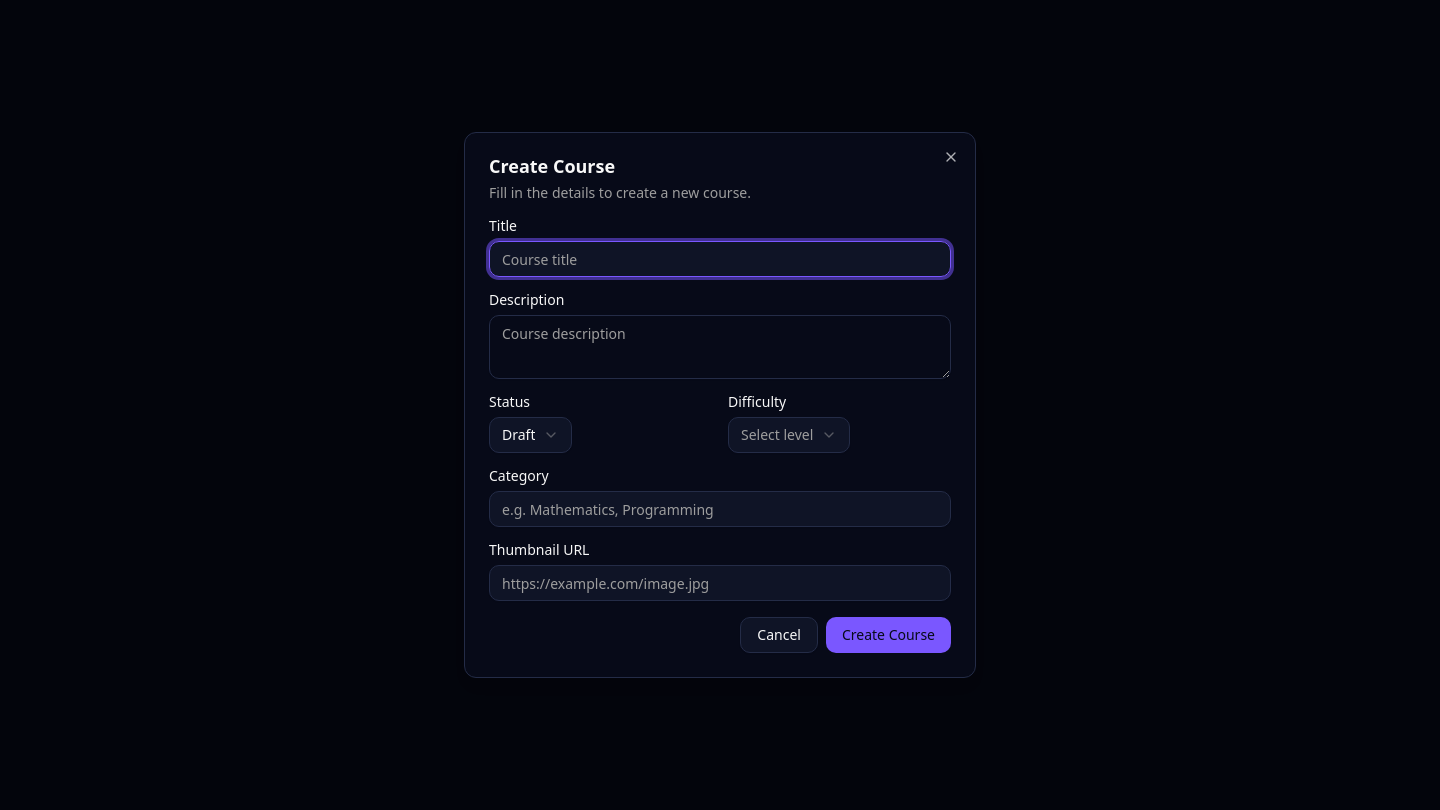
CourseFormDialog › shows validation errors for empty fields on submit
The width and height of the screenshot is (1440, 810).
Click the button "Create Course" at coordinates (888, 635), box [826,617,951,653]
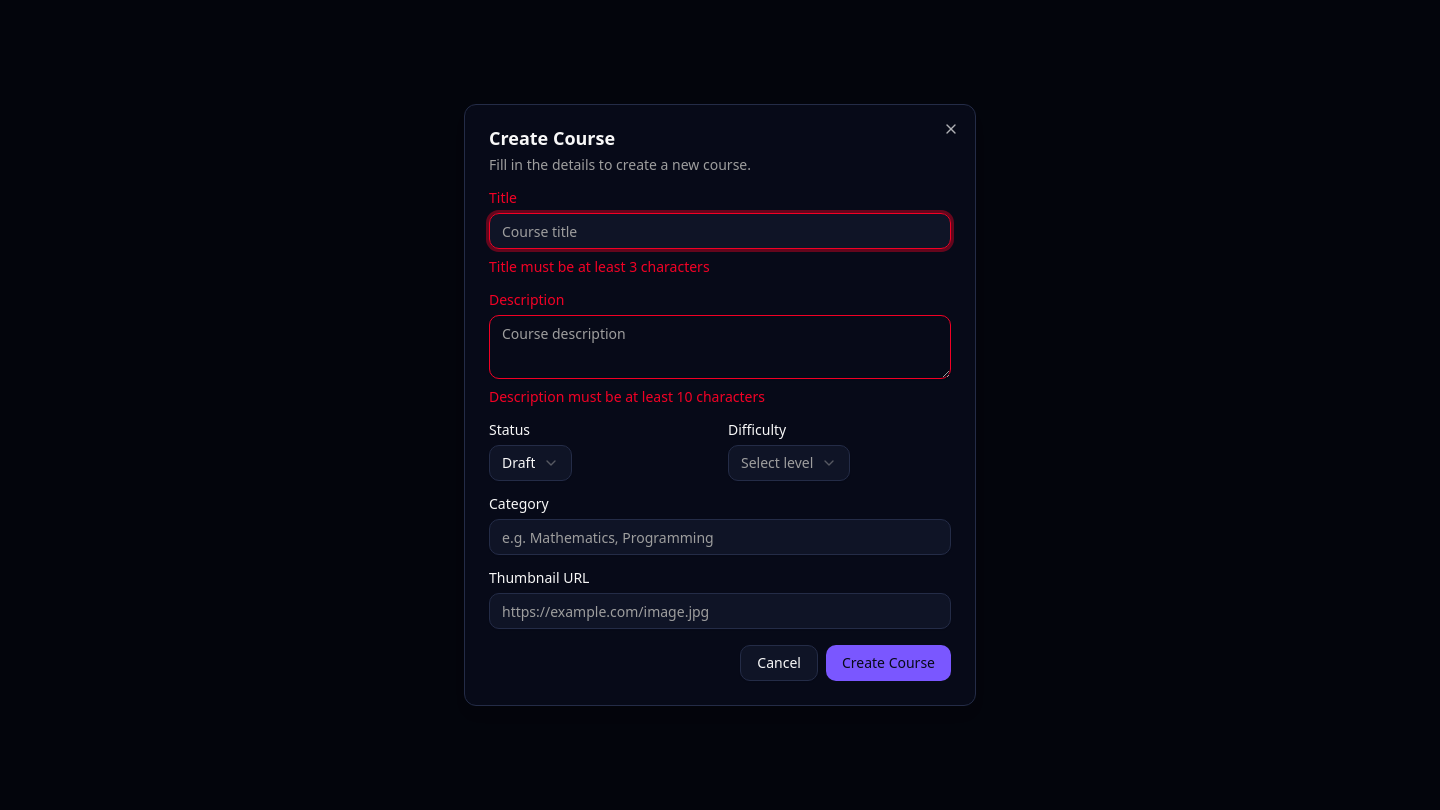
expect the text "Title must be at least 3 characters" is shown: met, box [489,257,710,276]
